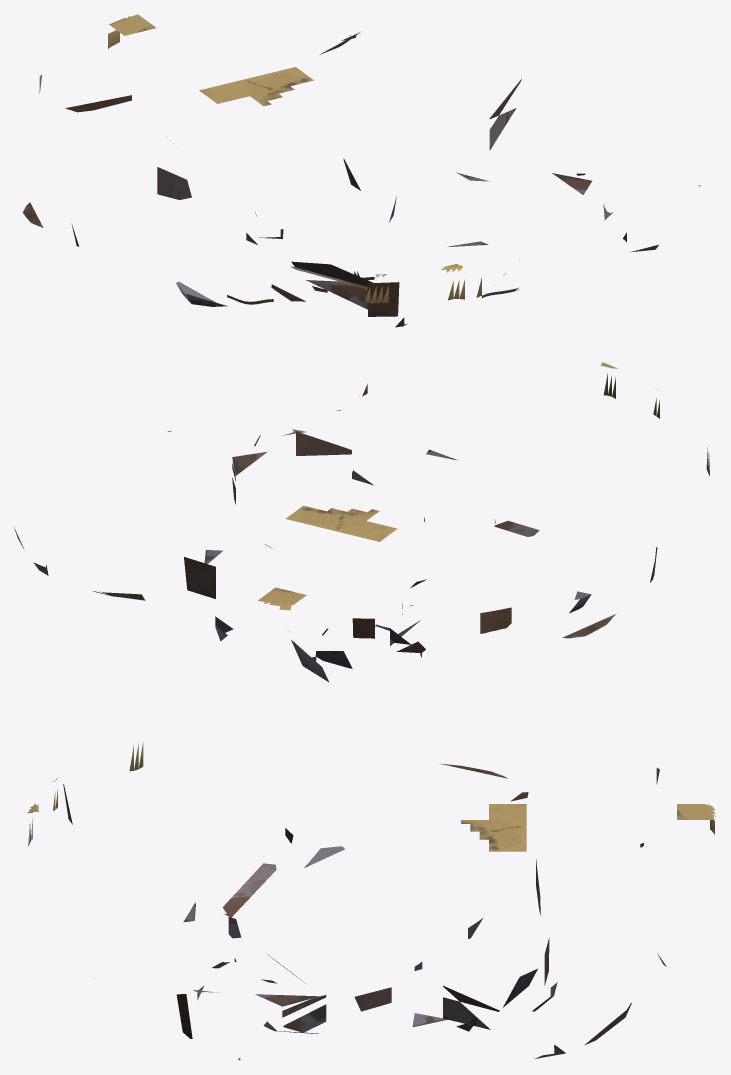
The picture shows the model from 3 angles, top to bottom: view 1: azimuth 30°, elevation 25°; view 2: azimuth 150°, elevation 25°; view 3: azimuth 270°, elevation 25°; orthographic projection. The views are drawn at different scales.
Parts seen in each view (by area): view 1: Grass_-1_1_0, Dirt_-3_-5_0_111, Dirt_-2_2_-1_001, Columns_-2_-2_-1_101, Grass_-2_4_0_100, Dirt_-2_-2_-1_100_010, Grass_-2_1_0_110; view 2: Grass_-1_1_0, Dirt_1_2_-1_000_010, Dirt_1_-3_-1_110_011, Dirt_-4_2_0_010, Grass_-2_4_0_100, Grass_-2_1_0_110; view 3: Grass_-1_1_0, Columns_-2_-2_-1_000_111, Columns_2_-1_-1_100, Columns_2_1_-1_100_000, Grass_-2_4_0_100, Grass_-2_1_0_110, Dirt_2_0_-1_000.
Boxes of the visible parts, x1,y1,x2,y2 form: Grass_-1_1_0: (231,67,313,106); Dirt_-3_-5_0_111: (367,282,399,316); Dirt_-2_2_-1_001: (157,167,191,199); Columns_-2_-2_-1_101: (306,280,367,309); Grass_-2_4_0_100: (108,14,155,48); Dirt_-2_-2_-1_100_010: (291,261,372,286); Grass_-2_1_0_110: (199,82,249,103); Grass_-1_1_0: (285,505,379,533); Dirt_1_2_-1_000_010: (184,557,215,598); Dirt_1_-3_-1_110_011: (296,431,351,455); Dirt_-4_2_0_010: (480,607,511,633); Grass_-2_4_0_100: (258,587,306,631); Grass_-2_1_0_110: (348,521,397,541); Grass_-1_1_0: (461,820,526,851); Columns_-2_-2_-1_000_111: (222,863,276,917); Columns_2_-1_-1_100: (282,995,326,1032); Columns_2_1_-1_100_000: (443,997,490,1029); Grass_-2_4_0_100: (677,804,716,834); Grass_-2_1_0_110: (489,804,526,819); Dirt_2_0_-1_000: (354,987,391,1011).
Bounding box in the file's own units: 566 × 183 × 599.
66 materials, 66 textured.
